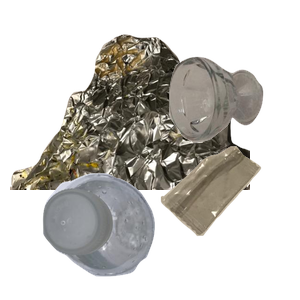glass: (166, 54, 300, 189)
metal: (10, 32, 250, 212)
plastic: (40, 170, 187, 300)
trash: (158, 144, 300, 300)
